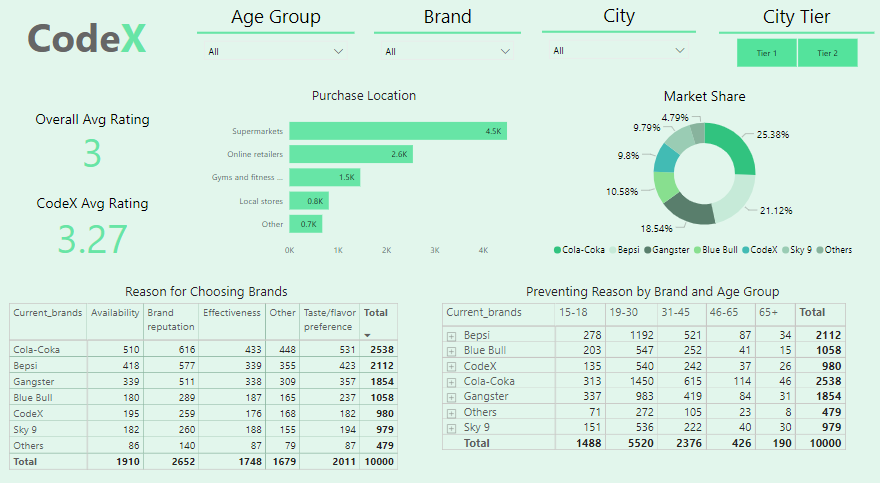

Layout of this report page (visuals, bound fields, positions):
{"tool":"powerbi","page":{"name":"Page 2","canvas":[1280,720],"ordinal":1},"visuals":[{"type":"textbox","box":[12.7,0,241.4,119.1],"z":0},{"type":"slicer","title":"City","fields":{"Values":["Cities.City"]},"box":[784.9,8.3,220.2,102.7],"z":1},{"type":"slicer","title":"Brand","fields":{"Values":["survey_responses.Current_brands"]},"box":[544.8,9.9,210.3,102.7],"z":3},{"type":"slicer","title":"City Tier","fields":{"Values":["Cities.Tier"]},"box":[1036.6,9.9,221.9,102.7],"z":4},{"type":"slicer","title":"Age Group","fields":{"Values":["respondents.Age"]},"box":[291.4,9.9,225.2,102.7],"z":5},{"type":"donutChart","title":"Market Share","fields":{"Category":["survey_responses.Current_brands"],"Y":["Measure Table.Total Respondents"]},"box":[784.3,128.6,464.3,252.9],"z":6},{"type":"card","title":"Overall Avg Rating","fields":{"Values":["Measure Table.Rating"]},"box":[30,161.4,224.3,94.3],"z":1000},{"type":"card","title":"CodeX Avg Rating","fields":{"Values":["Measure Table.CodeX Avg Rating"]},"box":[30,281.4,224.3,100],"z":1000},{"type":"clusteredBarChart","title":" Purchase Location","fields":{"Category":["survey_responses.Purchase_location"],"Y":["Measure Table.Total Respondents"]},"box":[291.4,128.6,477.1,252.9],"z":1001},{"type":"pivotTable","title":"Reason for Choosing Brands","fields":{"Rows":["survey_responses.Current_brands"],"Columns":["survey_responses.Reasons_for_choosing_brands"],"Values":["Measure Table.Total Respondents"]},"box":[12.9,398.6,578.6,308.6],"z":1002},{"type":"pivotTable","title":"Preventing Reason by Brand and Age Group","fields":{"Columns":["respondents.Age"],"Values":["Measure Table.Total Respondents"],"Rows":["survey_responses.Current_brands","survey_responses.Reasons_preventing_trying"]},"box":[631.4,398.6,617.1,308.6],"z":1003}]}

Visuals, with their boxes in screenshot pixels (x1, y1, x2, y2), scaled from the page's 1280x720 canvas onto the 880x483 screenshot:
textbox: select_region(9, 0, 175, 80)
"City" slicer: select_region(540, 6, 691, 74)
"Brand" slicer: select_region(375, 7, 519, 76)
"City Tier" slicer: select_region(713, 7, 865, 76)
"Age Group" slicer: select_region(200, 7, 355, 76)
"Market Share" donutChart: select_region(539, 86, 858, 256)
"Overall Avg Rating" card: select_region(21, 108, 175, 172)
"CodeX Avg Rating" card: select_region(21, 189, 175, 256)
" Purchase Location" clusteredBarChart: select_region(200, 86, 528, 256)
"Reason for Choosing Brands" pivotTable: select_region(9, 267, 407, 474)
"Preventing Reason by Brand and Age Group" pivotTable: select_region(434, 267, 858, 474)
